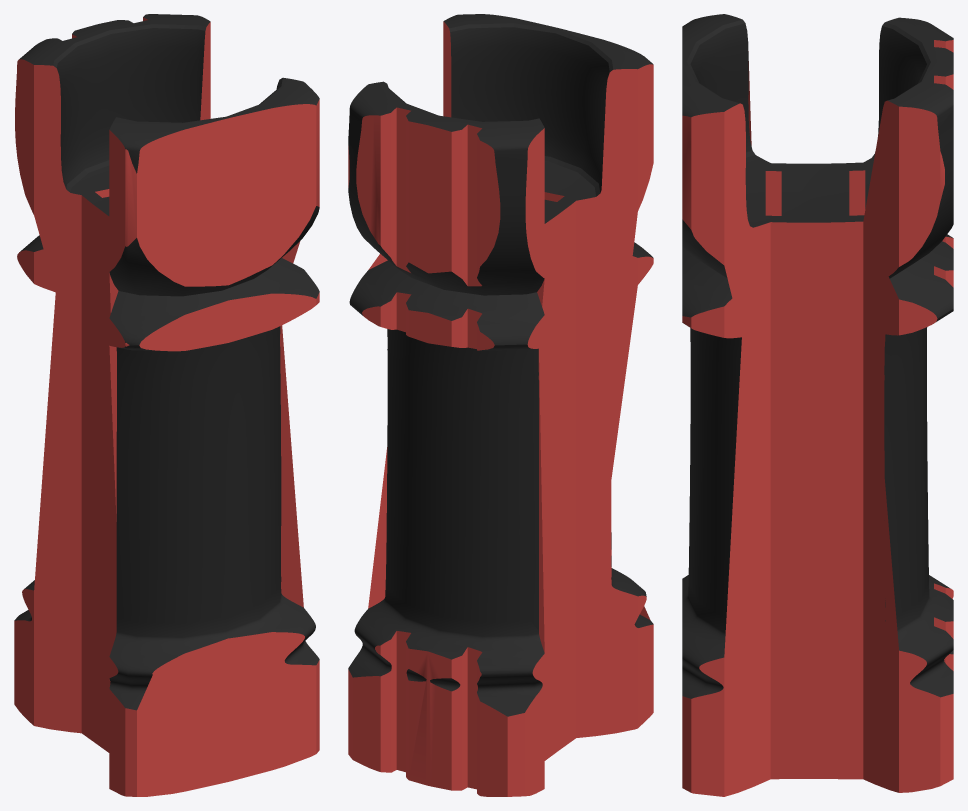
File: Black_Rook.fbx
The picture shows the model from 3 angles, left to right: view 1: azimuth 30°, elevation 25°; view 2: azimuth 150°, elevation 25°; view 3: azimuth 270°, elevation 25°; orthographic projection. The views are drawn at different scales.
Visible parts, largest first — view 1: Black_Rook; view 2: Black_Rook; view 3: Black_Rook.
Part boxes in pixels (bbox=[...]): Black_Rook: bbox=[14, 14, 319, 796]; Black_Rook: bbox=[348, 14, 653, 796]; Black_Rook: bbox=[682, 14, 953, 796].
Size of the model in its own units: 33.98 by 39.55 by 111.
